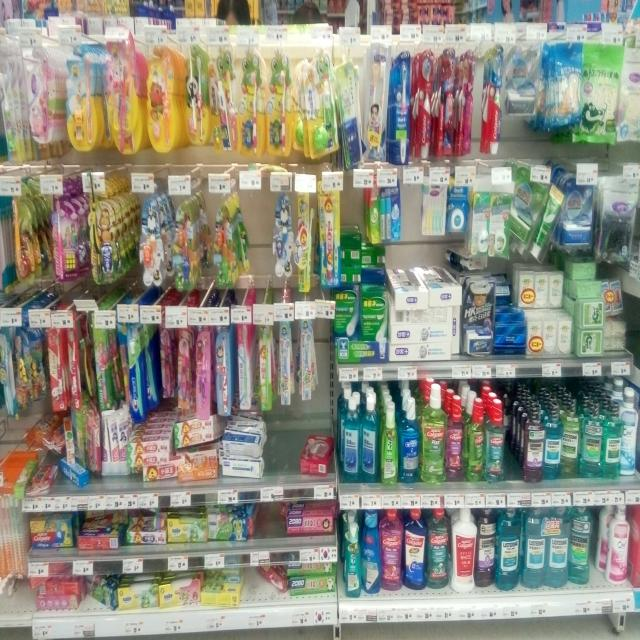empty: (265, 412, 302, 481), (247, 501, 286, 541)
